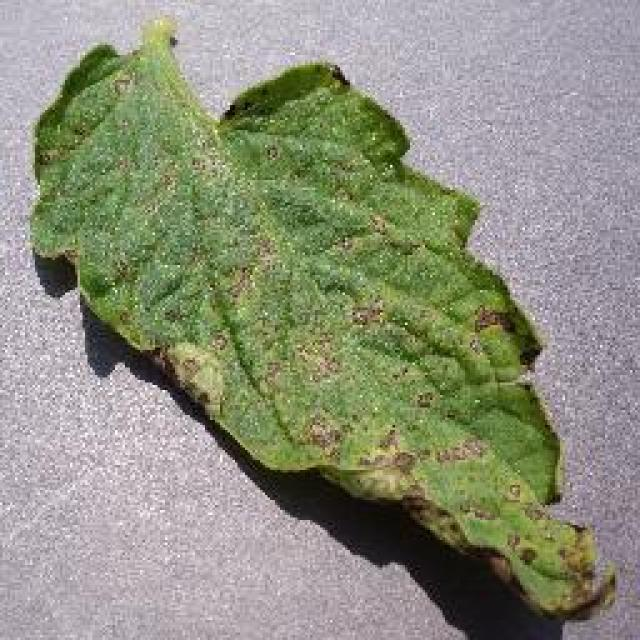Tomato___Septoria_leaf_spot: (32, 18, 612, 615)
